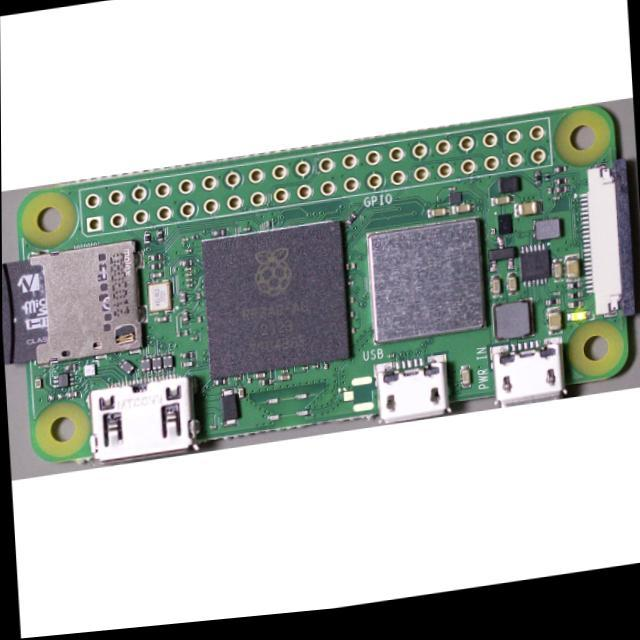Raspberry-Pi-Zero-2-W: (11, 106, 636, 463)
